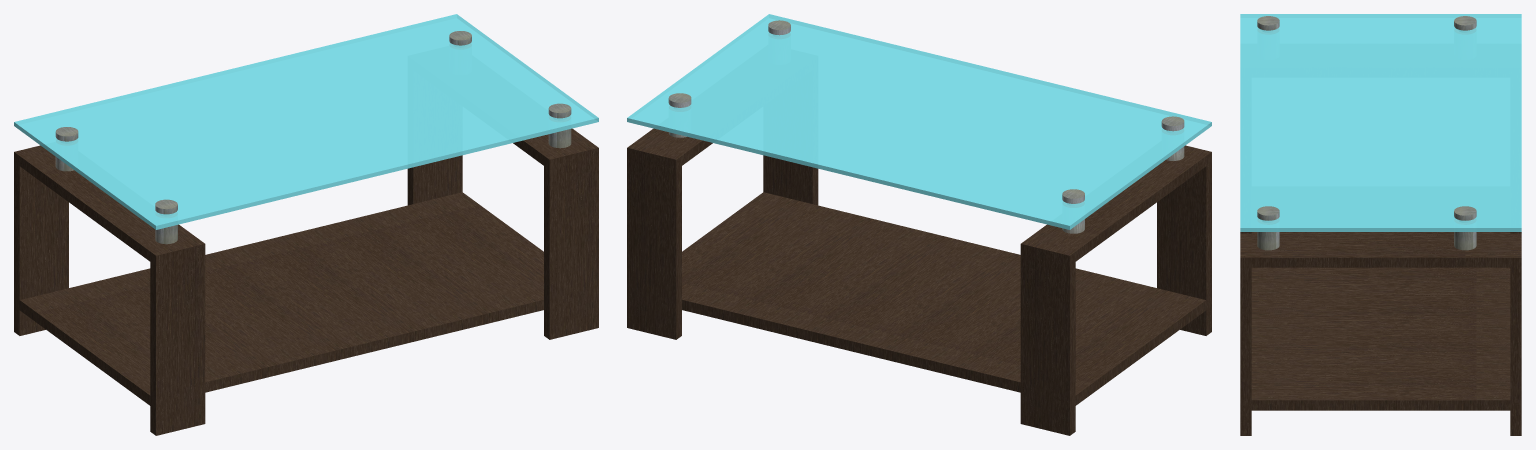
File: teapoy.dae
3 views of the same model, side by side, from view 1: azimuth 30°, elevation 25°; view 2: azimuth 150°, elevation 25°; view 3: azimuth 270°, elevation 25° (orthographic).
Visible parts, largest first — view 1: group_0, group_1, group_2 (×2); view 2: group_0, group_1, group_2 (×2); view 3: group_0, group_1, group_2, group_4 (×3), group_3 (×3).
Part boxes in pixels (x1,y1,x2,y2): group_0: (14, 14, 598, 229); group_1: (19, 192, 543, 405); group_2 (×2): (14, 128, 598, 435); group_0: (627, 14, 1211, 229); group_1: (682, 192, 1206, 405); group_2 (×2): (627, 128, 1211, 435); group_0: (1240, 14, 1521, 231); group_1: (1251, 232, 1510, 410); group_2: (1240, 233, 1521, 435); group_4 (×3): (1257, 16, 1279, 250); group_3 (×3): (1454, 16, 1476, 250).
Size of the model in its own units: 35.43 by 19.69 by 16.46.
3 materials, 2 textured.
